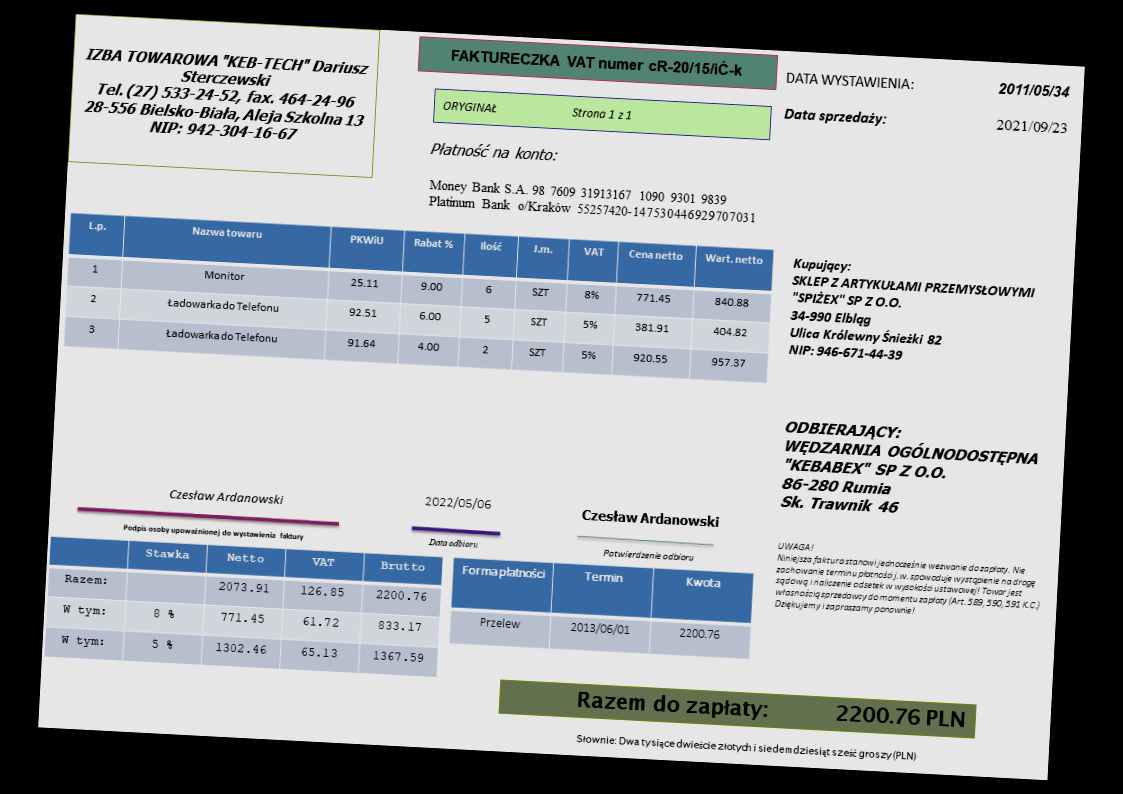Table: (62, 210, 776, 385), (43, 534, 445, 679), (447, 554, 756, 661)
TextBox: (78, 42, 371, 149), (785, 253, 1041, 371), (778, 418, 1043, 525), (772, 537, 1045, 625), (573, 687, 968, 734), (424, 174, 760, 226), (572, 730, 919, 765), (449, 44, 746, 79), (439, 95, 634, 124), (119, 520, 307, 543), (578, 504, 723, 531), (427, 138, 561, 165), (783, 67, 916, 93), (167, 484, 287, 508), (782, 104, 889, 129), (996, 78, 1073, 101), (599, 546, 696, 564), (993, 115, 1069, 137), (423, 493, 493, 513), (424, 535, 481, 550)
